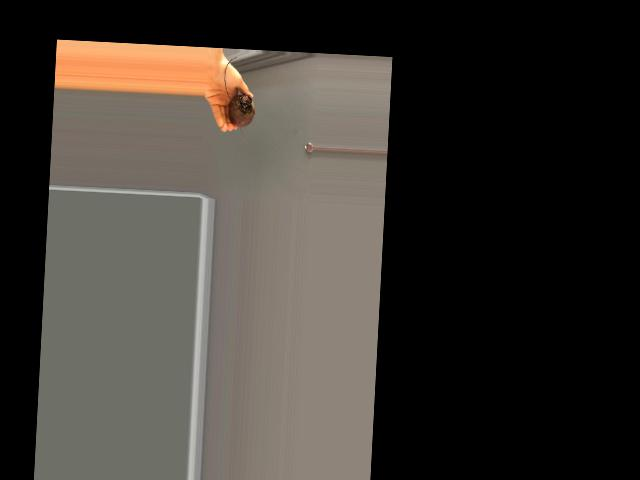beet: (220, 57, 256, 135)
